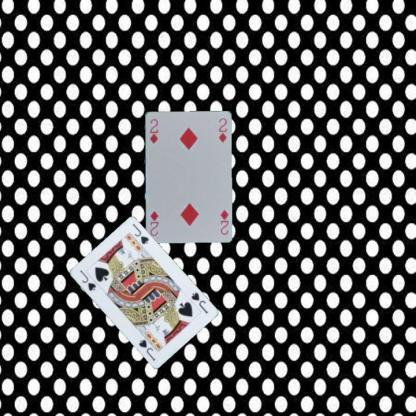2d: (147, 116, 159, 145), (218, 207, 230, 236)
Js: (188, 289, 210, 315), (77, 266, 97, 292)
